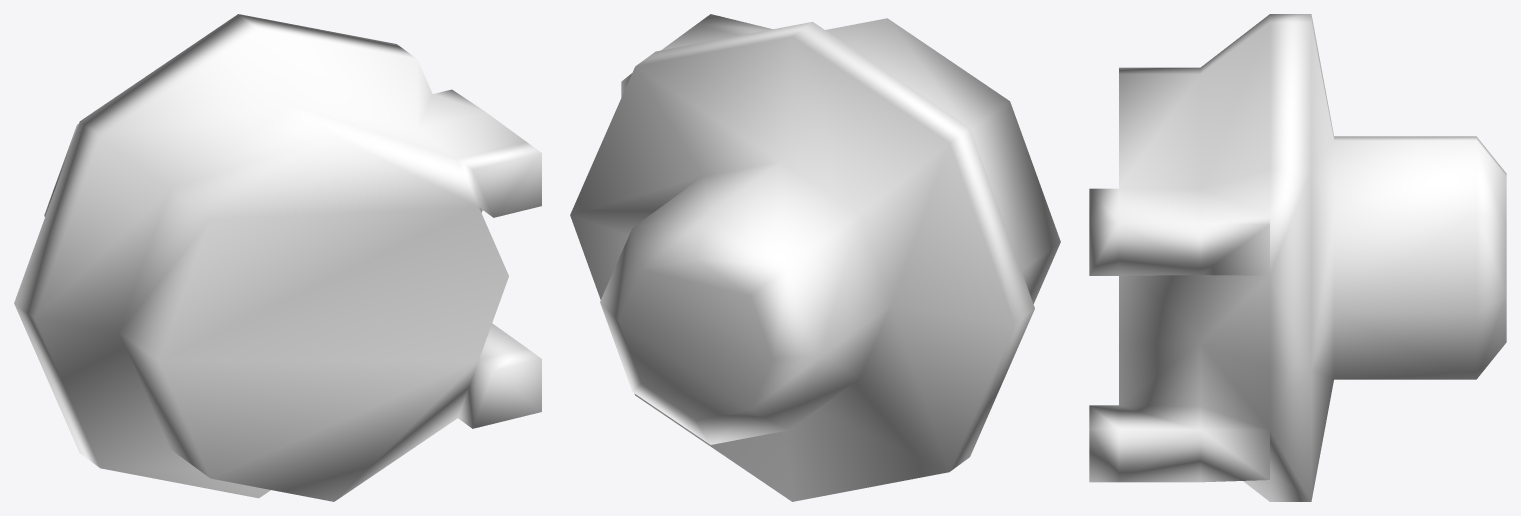
The model's file is torsoyaw.obj.
3 views of the same model, side by side, from view 1: azimuth 30°, elevation 25°; view 2: azimuth 150°, elevation 25°; view 3: azimuth 270°, elevation 25° (orthographic).
Bounding box in the file's own units: 0.1322 × 0.1322 × 0.1062.
Materials: 1 (1 with a texture image).
